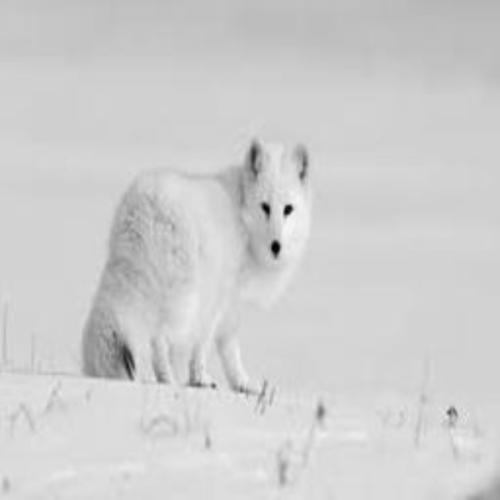arctic_fox-endangered: (79, 140, 312, 392)
